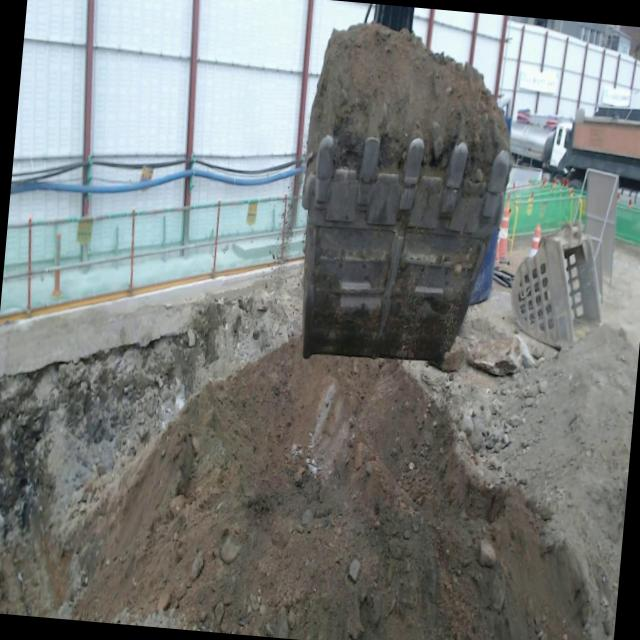red-sand: (73, 336, 589, 640), (305, 23, 509, 185)
stone: (466, 334, 534, 375)
white-sand: (451, 325, 638, 634)
